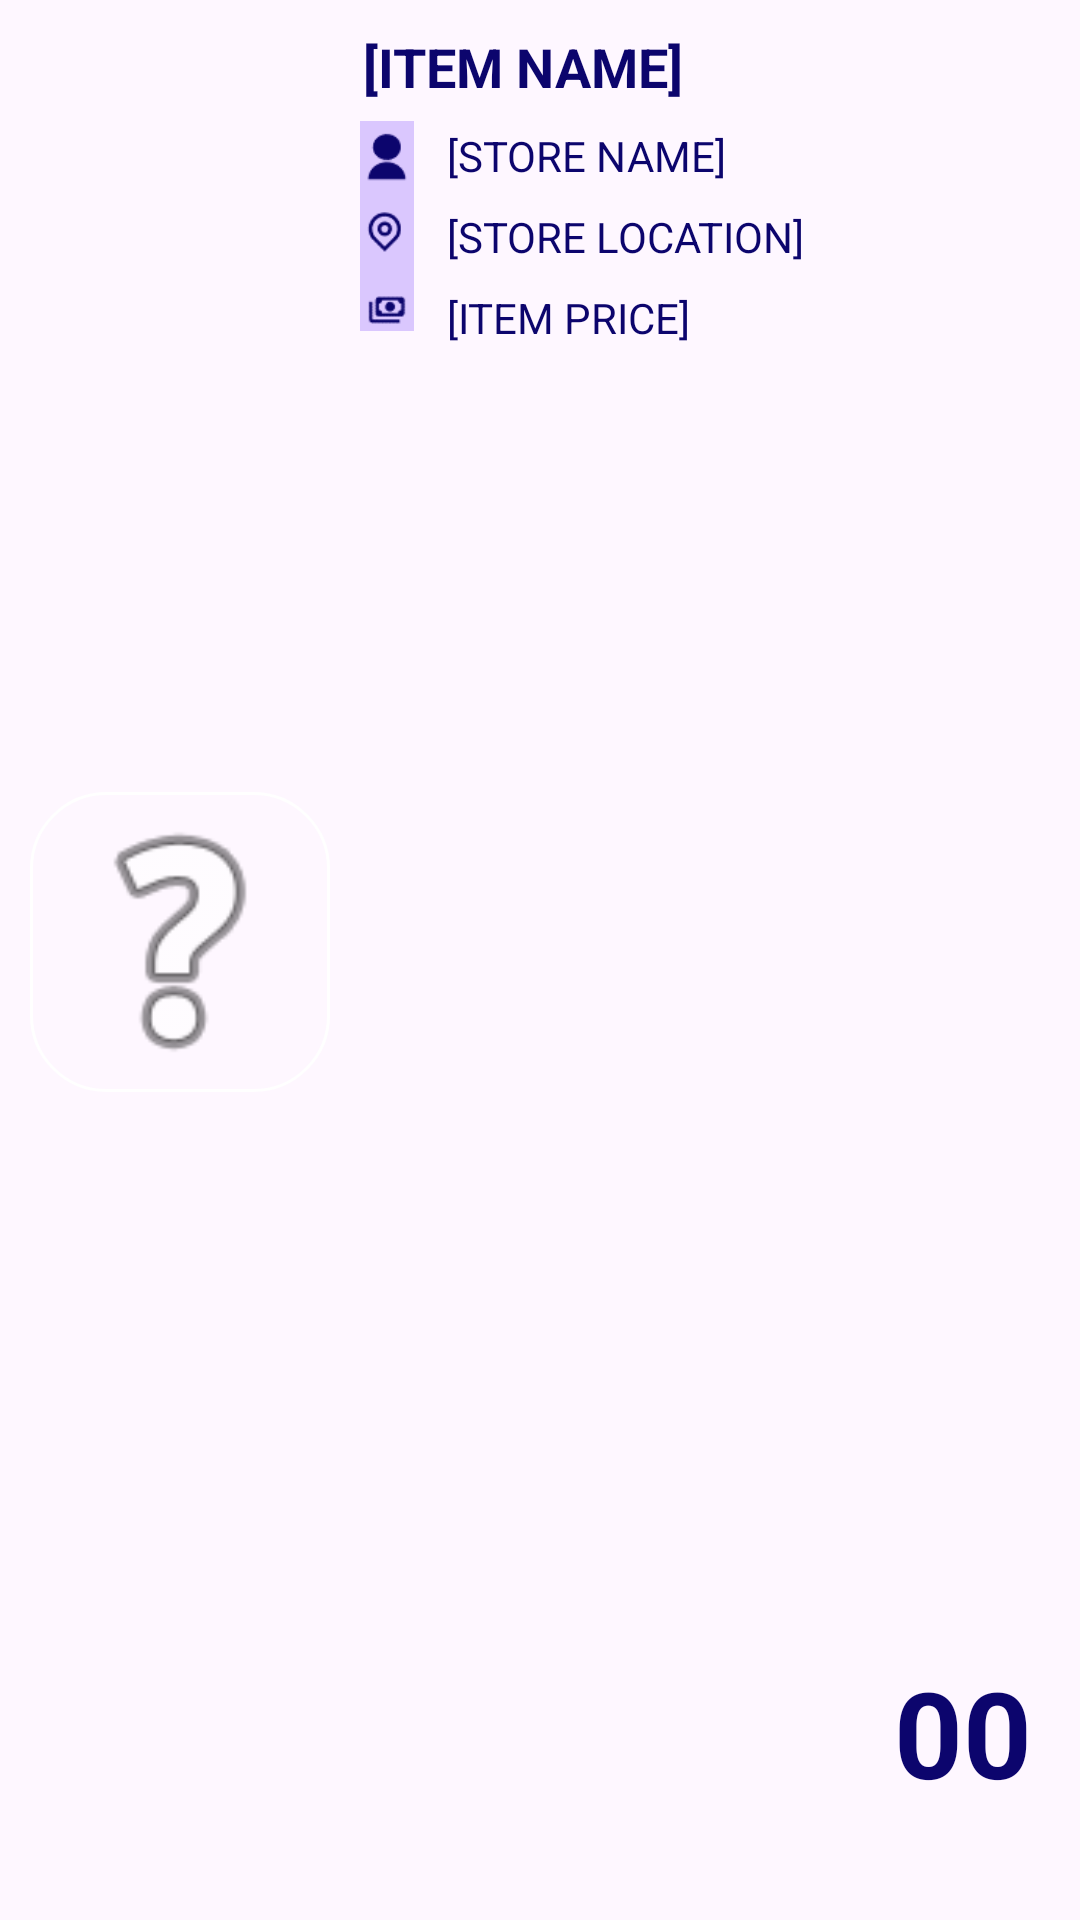

Named icons in this screenshot (1080×1920) and their centers, (x=x, y=y):
help: (x=180, y=942)
